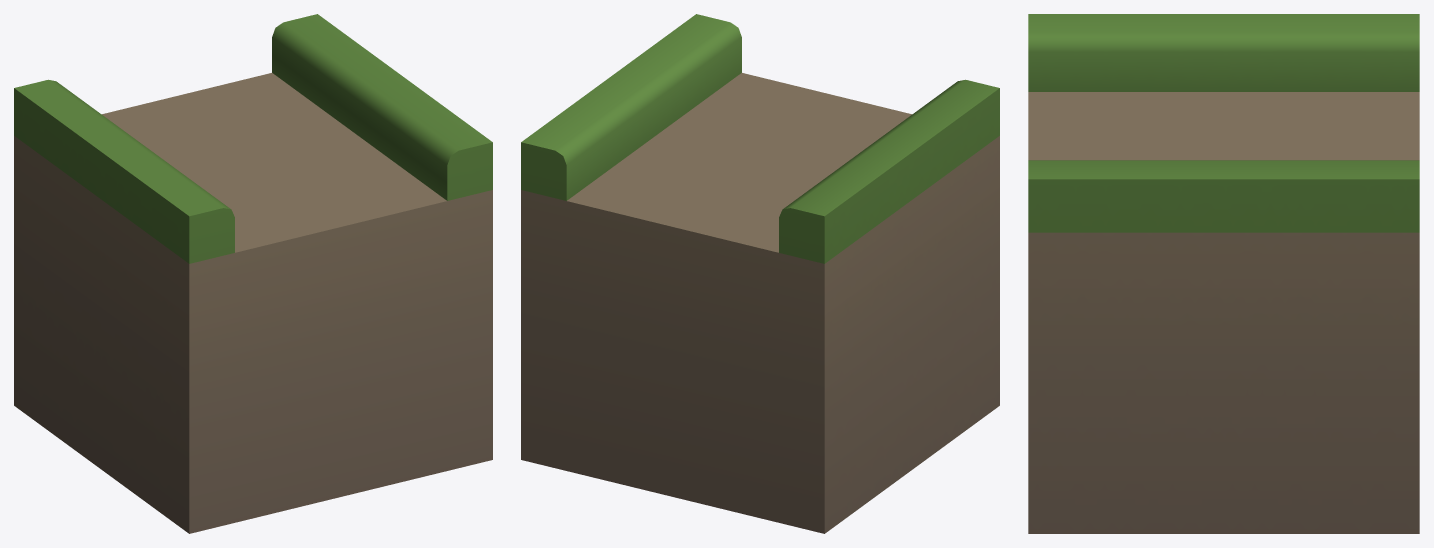
Rendered from roadCube1.fbx.
The picture shows the model from 3 angles, left to right: view 1: azimuth 30°, elevation 25°; view 2: azimuth 150°, elevation 25°; view 3: azimuth 270°, elevation 25°; orthographic projection. The views are drawn at different scales.
Visible parts, largest first — view 1: roadCubeBevel_straight; view 2: roadCubeBevel_straight; view 3: roadCubeBevel_straight.
Boxes of the visible parts, left/top/right/bottom form: roadCubeBevel_straight: left=14, top=14, right=492, bottom=533; roadCubeBevel_straight: left=521, top=14, right=999, bottom=533; roadCubeBevel_straight: left=1028, top=14, right=1419, bottom=533.
Size of the model in its own units: 200 by 200 by 200.
